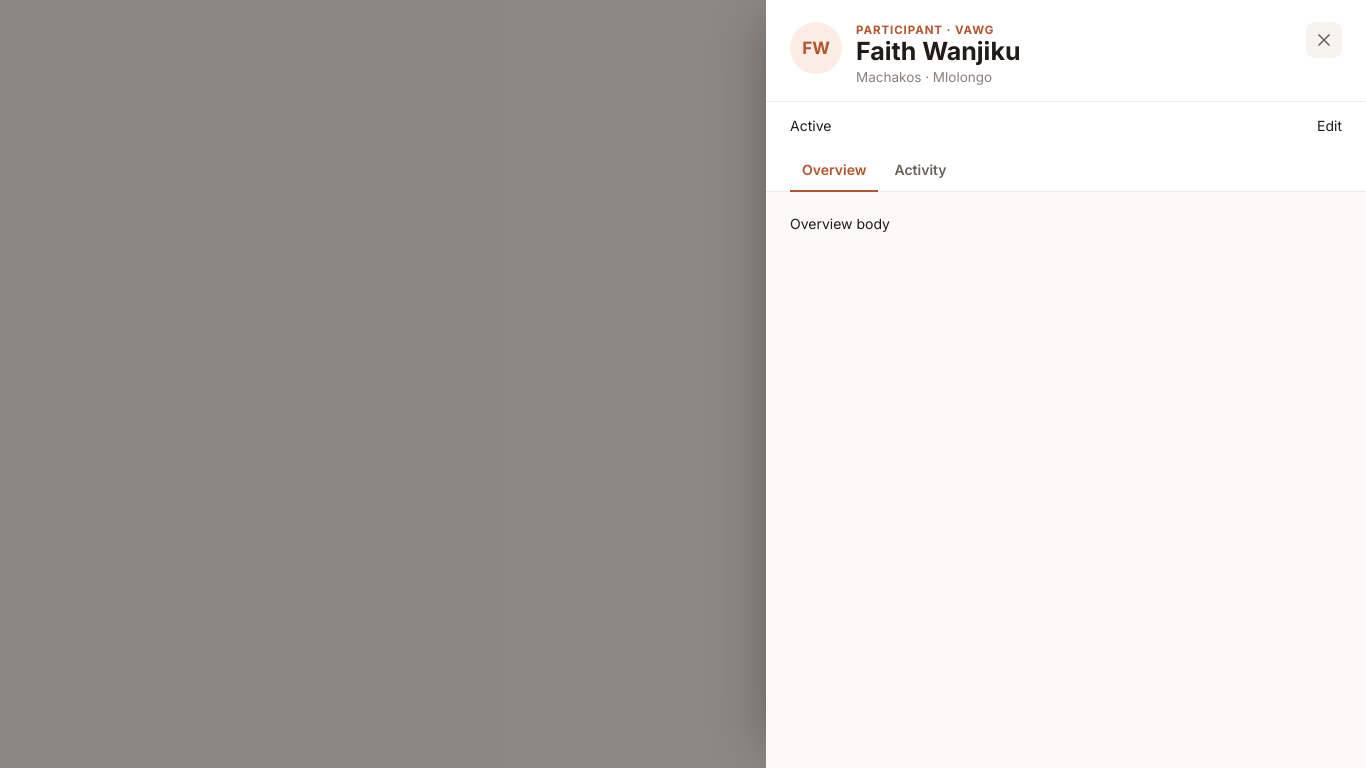
Test case: switches between tabs
Check: the text "Overview body" is shown, box [790,215,890,232]
Click the tab "Activity" at (921, 171), box [882,150,959,192]
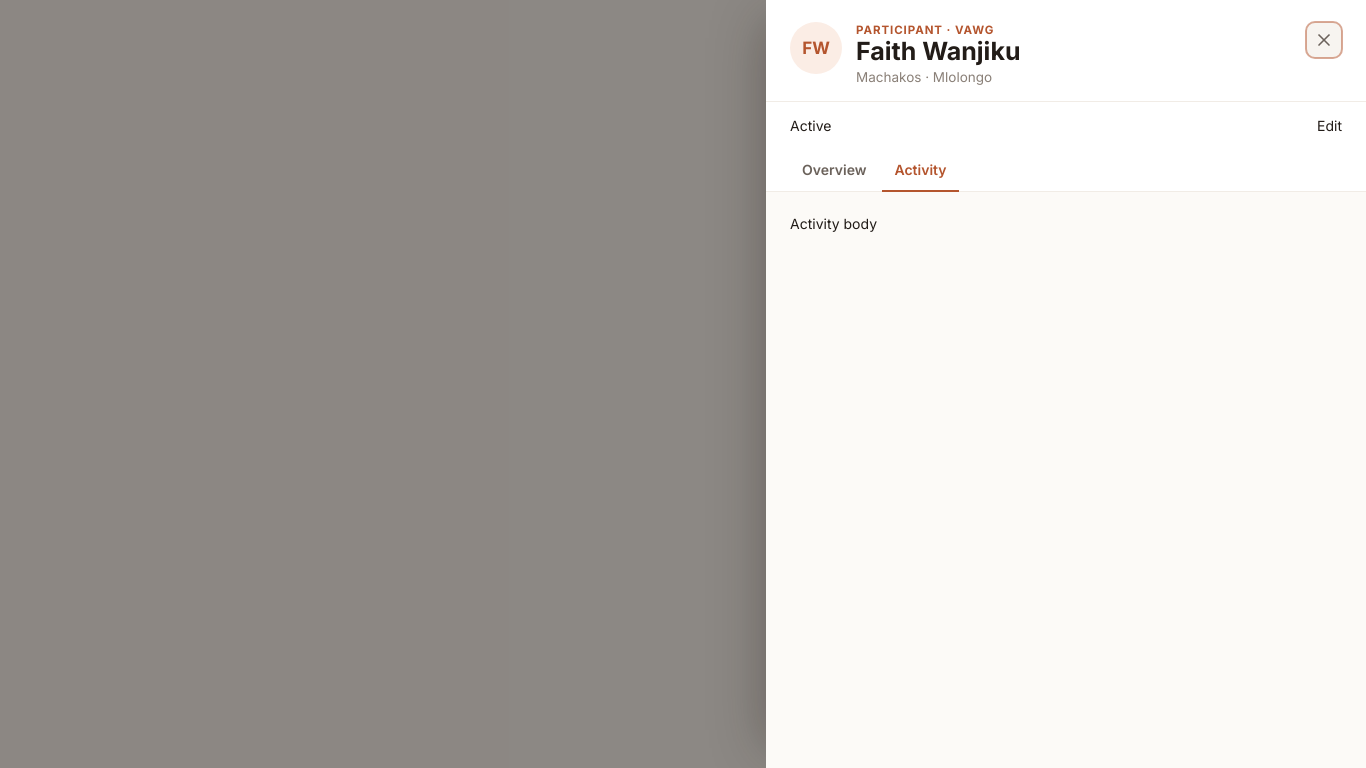
Check: the text "Activity body" is shown, box [790,215,877,232]
Check: the text "Overview body" is gone
